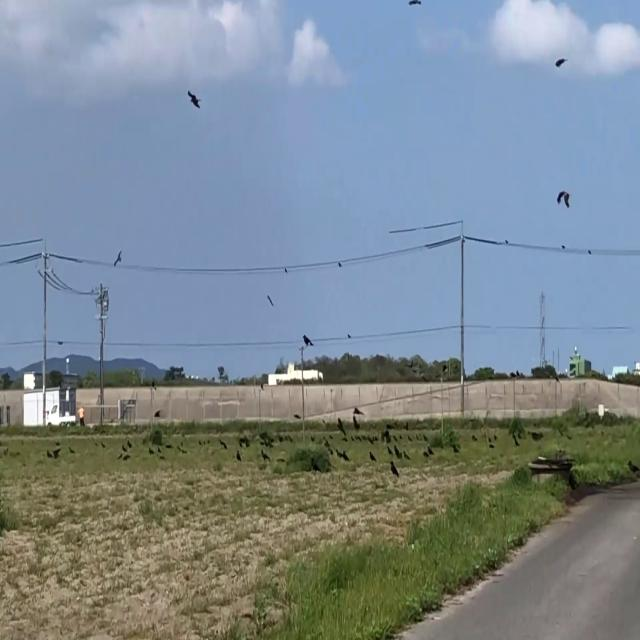bird: (187, 83, 200, 116), (557, 182, 570, 214), (556, 50, 566, 73), (302, 330, 312, 352), (114, 245, 121, 272), (391, 455, 397, 479), (394, 444, 399, 463), (370, 447, 374, 465), (424, 444, 428, 460), (533, 429, 537, 444)
